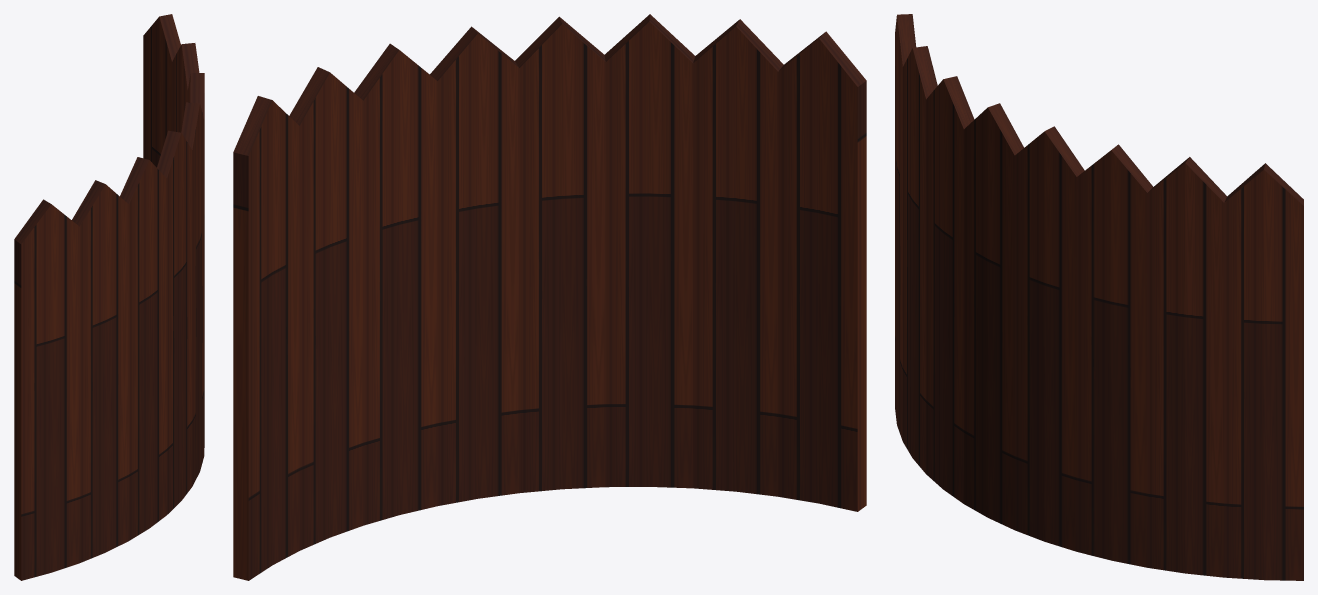
Rendered from cornerFence.fbx.
3 views of the same model, side by side, from view 1: azimuth 30°, elevation 25°; view 2: azimuth 150°, elevation 25°; view 3: azimuth 270°, elevation 25° (orthographic). The views are drawn at different scales.
Visible parts, largest first — view 1: Cube; view 2: Cube; view 3: Cube.
Part boxes in pixels (x1=…): Cube: x1=14, y1=14, x2=204, y2=580; Cube: x1=233, y1=14, x2=866, y2=580; Cube: x1=895, y1=14, x2=1303, y2=580.
Size of the model in its own units: 519 by 575 by 519.
Materials: 1 (1 with a texture image).
